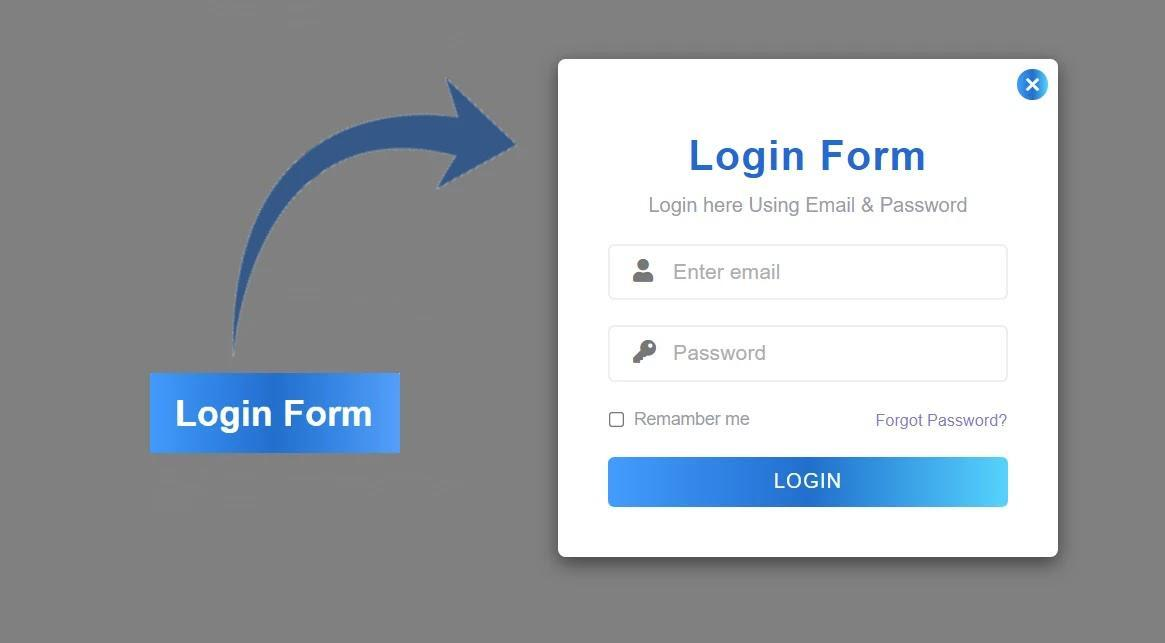button: (150, 373, 402, 456), (608, 458, 1010, 509), (876, 413, 1011, 433)
checkbox: (610, 413, 625, 427)
input: (610, 327, 1009, 383), (609, 246, 1008, 301)
label: (634, 411, 753, 429)
